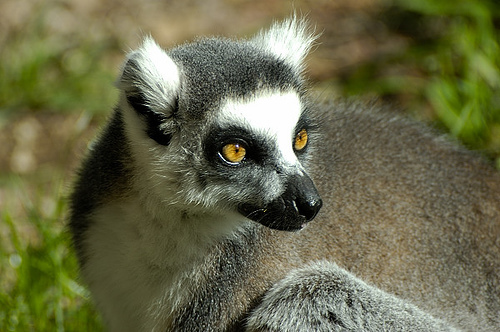cat: (66, 19, 499, 331)
